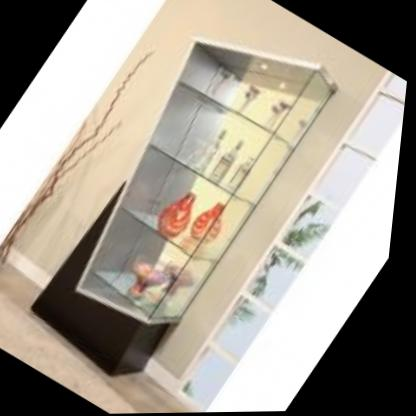Cupboard: (1, 0, 355, 396)
